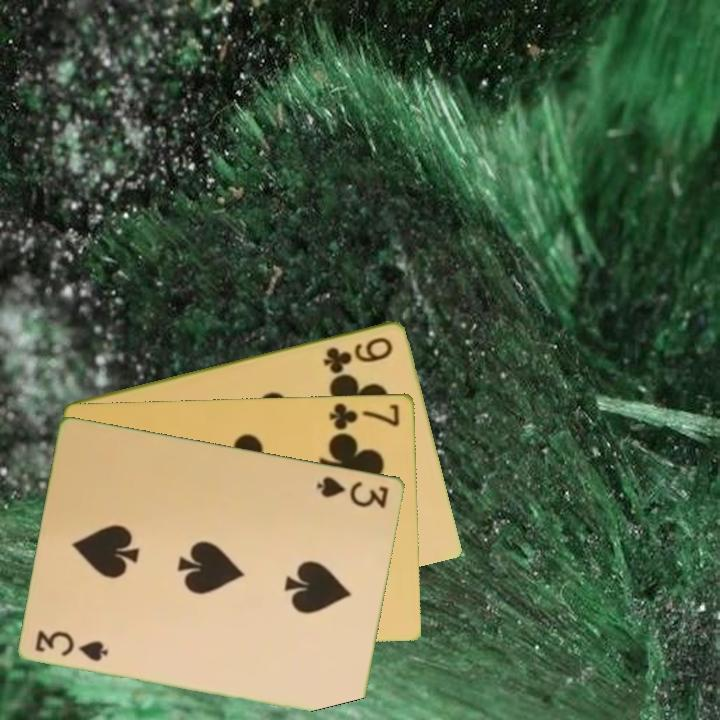3s: (313, 472, 392, 511), (32, 626, 111, 664)
7c: (326, 399, 403, 433)
9c: (320, 333, 396, 374)
